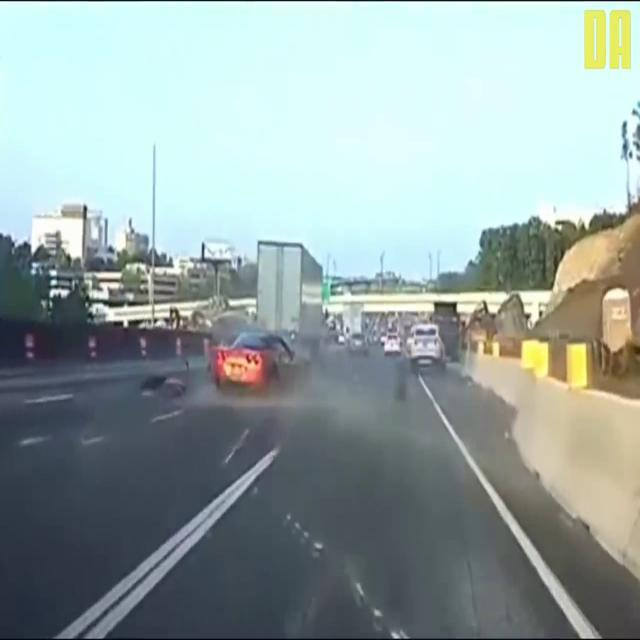single accident: (195, 273, 323, 422)
